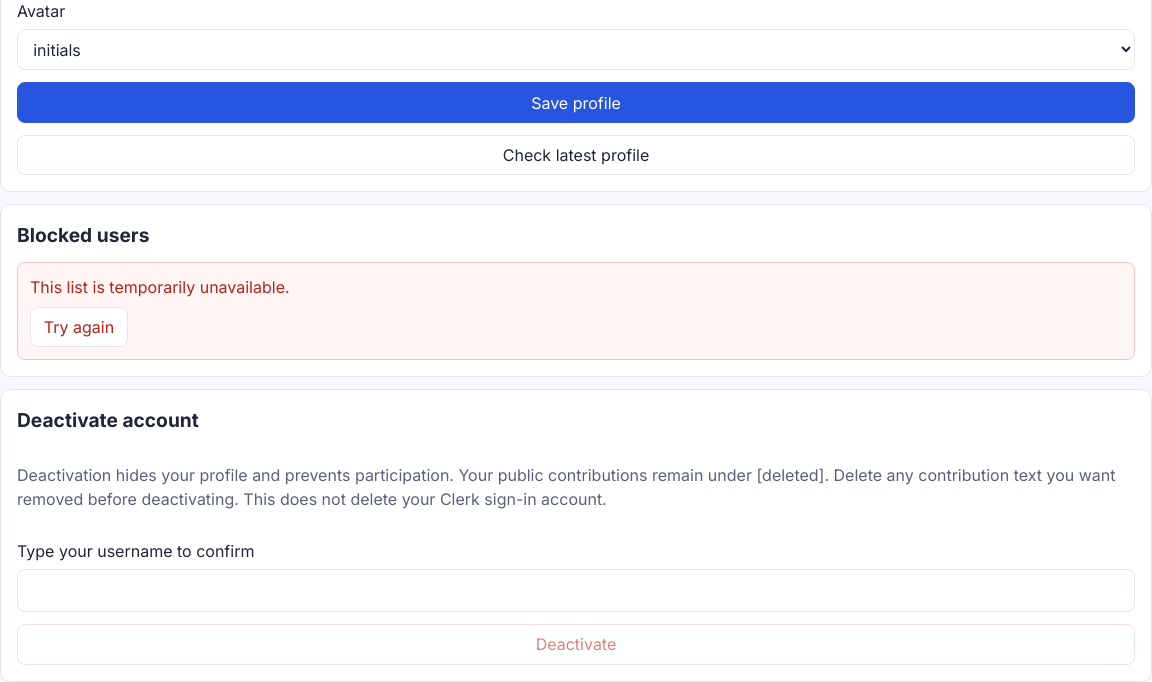
Scenario: recovers blocks reads without falsely claiming the list is empty
This screenshot has width=1152, height=682.
(page scrolled)
expect the message shows "This list is temporarily unavailable.": met, box [30,277,290,297]
expect the text "No blocks." is not shown: met
Click the button "Try again" at (79, 327), box [30,307,128,347]
(page scrolled)
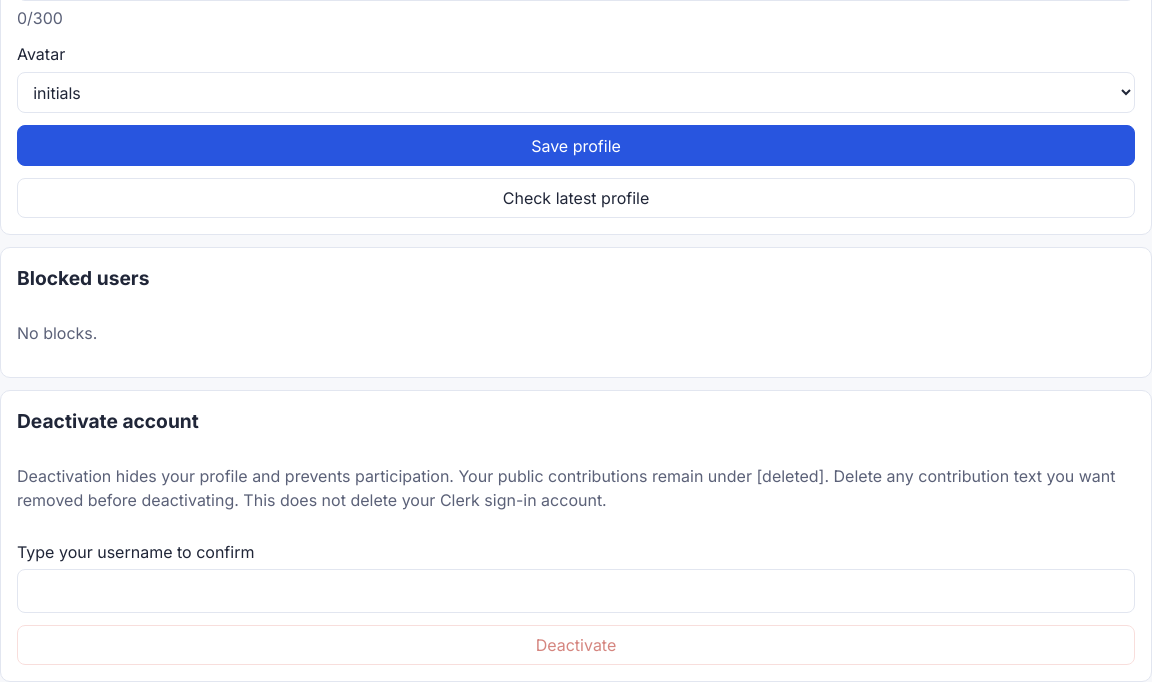
expect the text "No blocks." is shown: met, box [17,323,97,343]
expect the message "This list is temporarily unavailable. Try again" is gone: met
